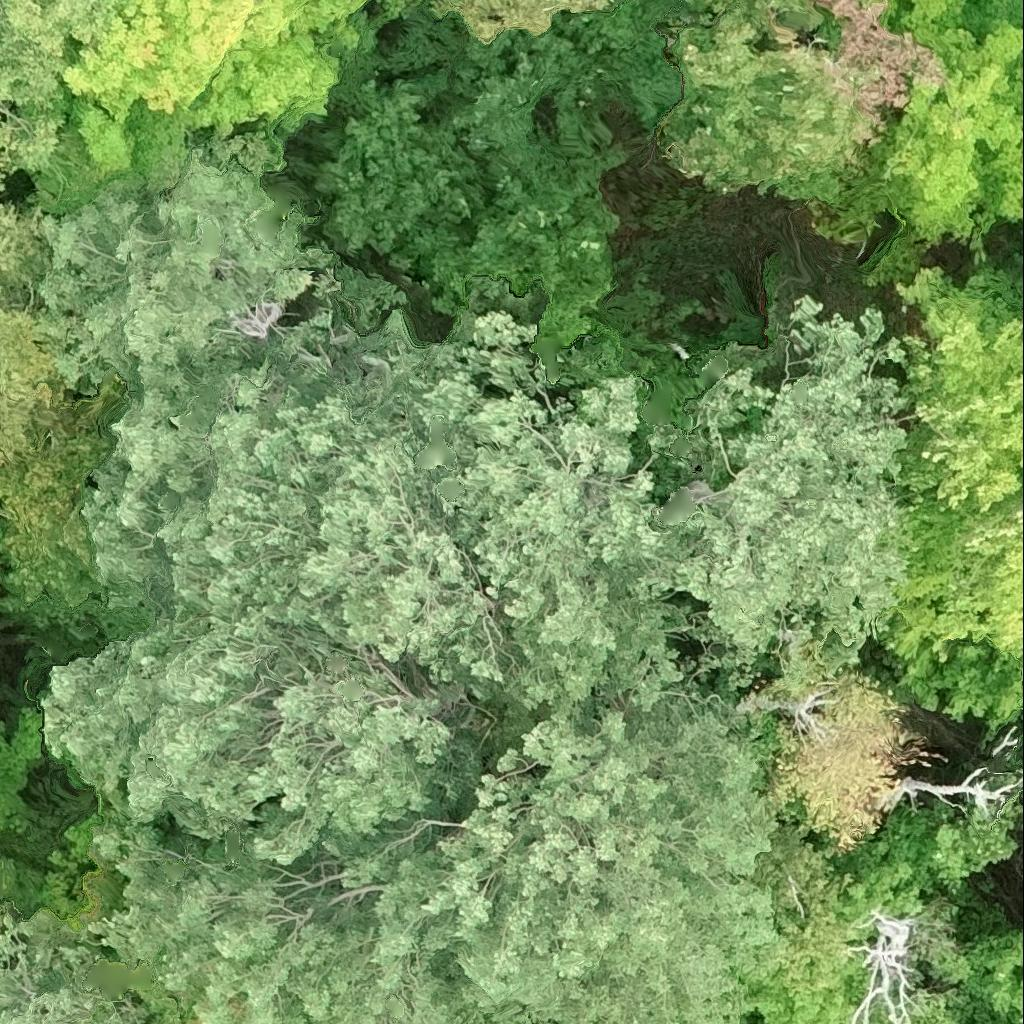crown: (87, 306, 512, 684), (376, 688, 778, 1023), (41, 615, 486, 907), (415, 277, 693, 722), (39, 138, 409, 413), (655, 298, 913, 669), (91, 819, 500, 1023), (877, 263, 1023, 719), (736, 799, 1023, 1023), (31, 0, 309, 221), (658, 0, 950, 202), (177, 0, 409, 163), (881, 0, 1023, 262), (316, 71, 484, 267), (0, 903, 181, 1023), (0, 0, 109, 185), (930, 928, 1023, 1023), (849, 905, 920, 1023), (429, 0, 613, 42), (733, 0, 823, 45), (907, 982, 970, 1023), (685, 0, 734, 20), (0, 506, 13, 577), (869, 1000, 889, 1023)
